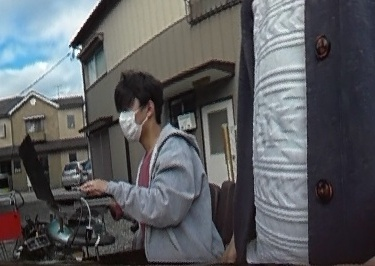person: (93, 73, 222, 266)
